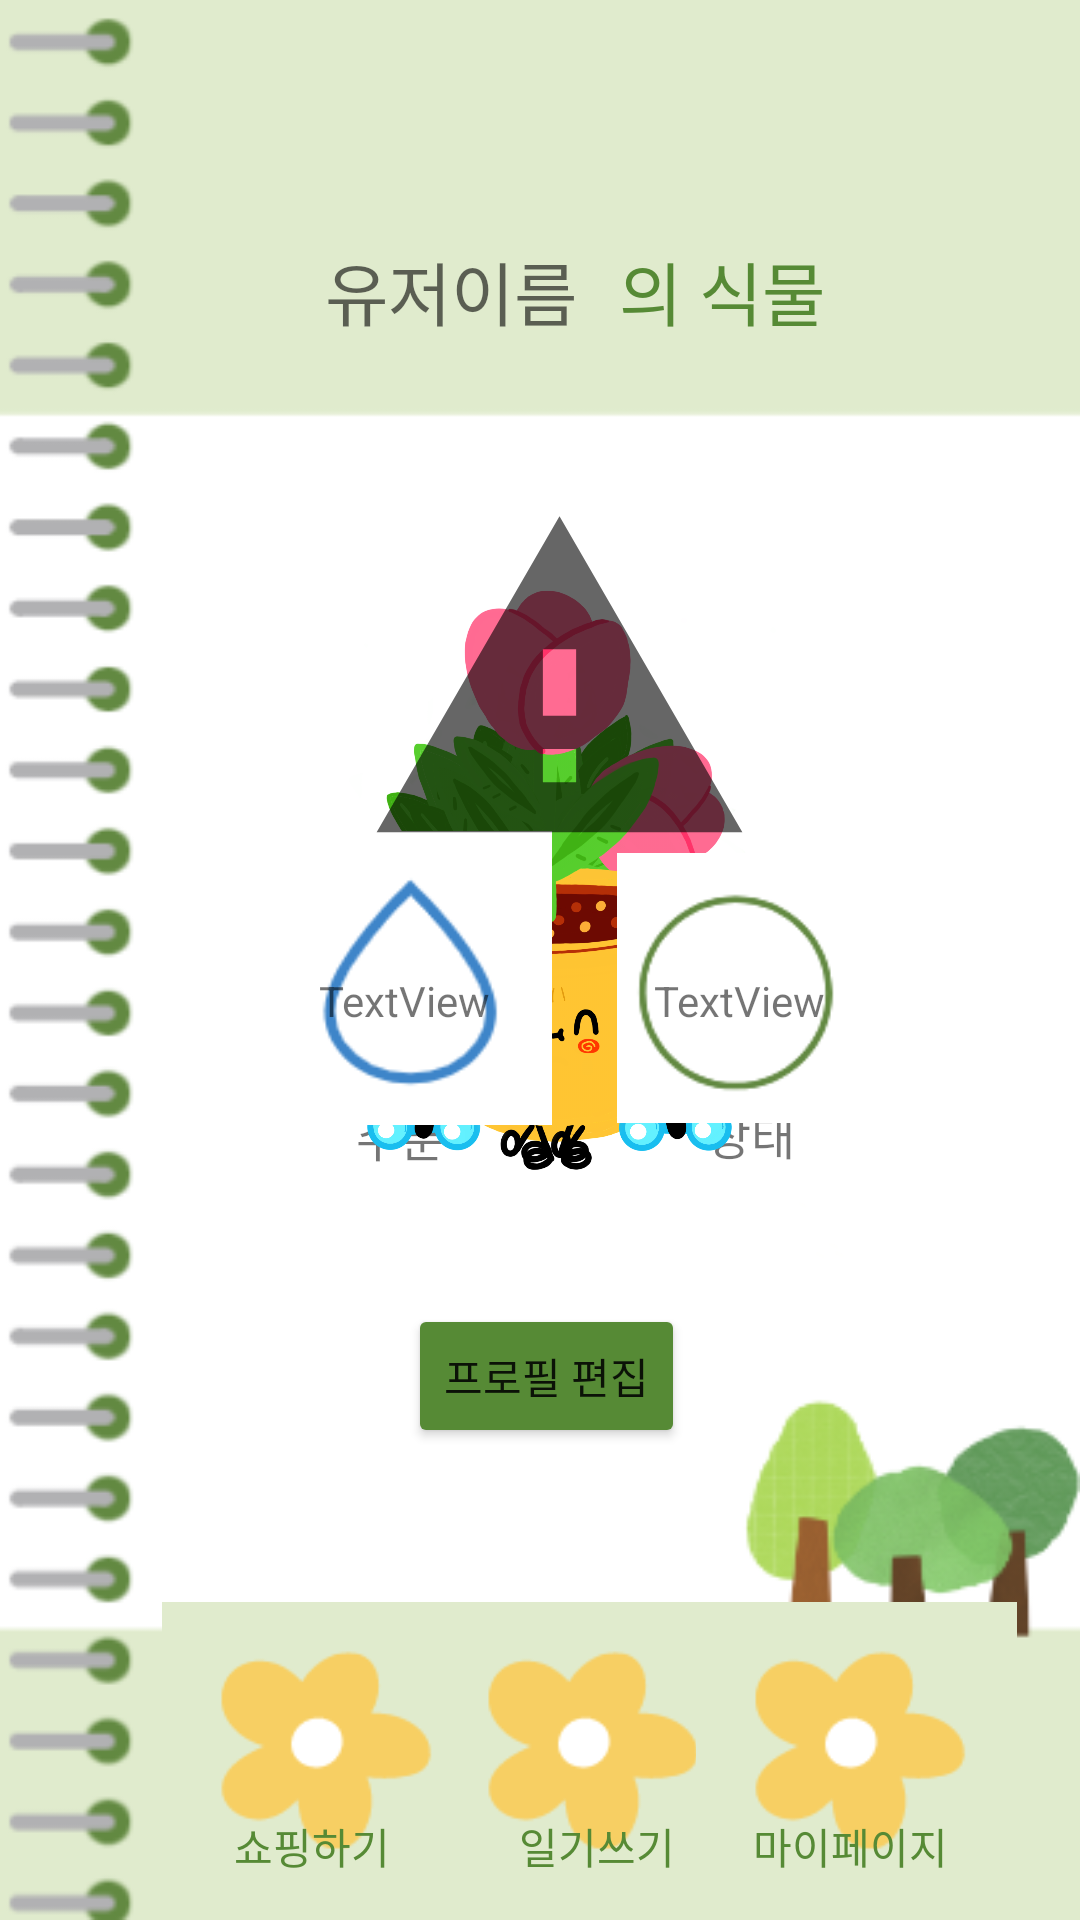

Icons on this 1080px x 1920px Android screen, each with its box as region(x1, y1, x2, y2):
flower: region(221, 1652, 431, 1868), region(488, 1652, 696, 1868), region(755, 1652, 965, 1868)
